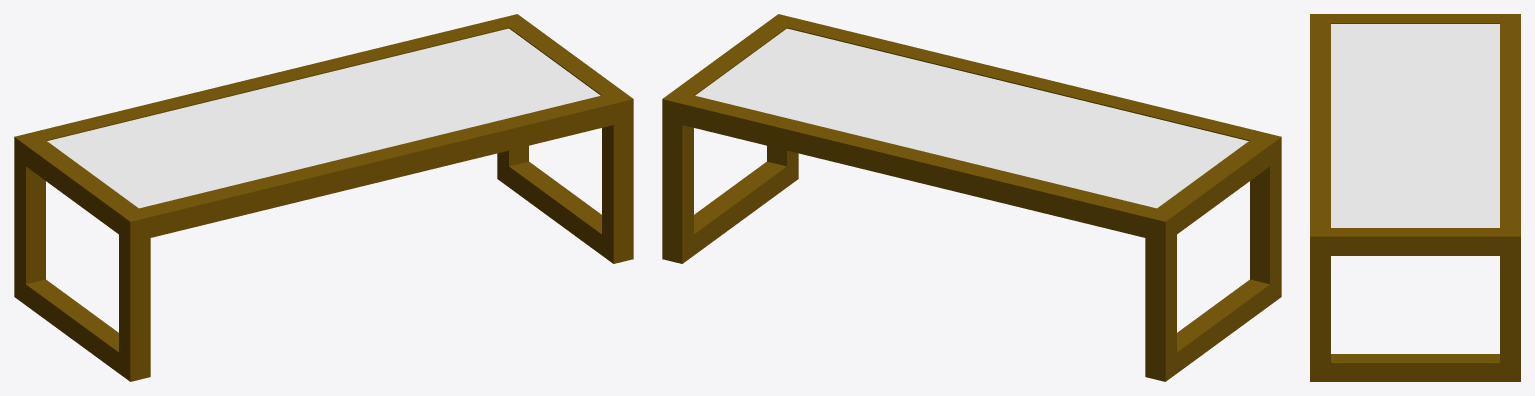
3 renders of one model, left to right at view 1: azimuth 30°, elevation 25°; view 2: azimuth 150°, elevation 25°; view 3: azimuth 270°, elevation 25°, orthographic. The views are drawn at different scales.
Parts seen in each view (by area): view 1: Geom3D_ (×2); view 2: Geom3D_ (×2); view 3: Geom3D_ (×2).
Boxes of the visible parts, x1,y1,x2,y2 form: Geom3D_ (×2): (14, 14, 633, 381); Geom3D_ (×2): (662, 14, 1281, 381); Geom3D_ (×2): (1310, 14, 1520, 381).
Bounding box in the file's own units: 2.5 × 0.76 × 1.
